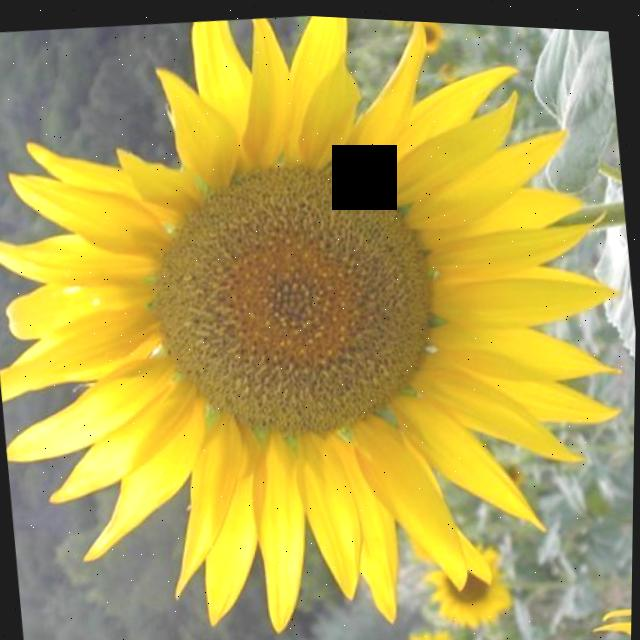sunflower: (0, 0, 640, 639)
